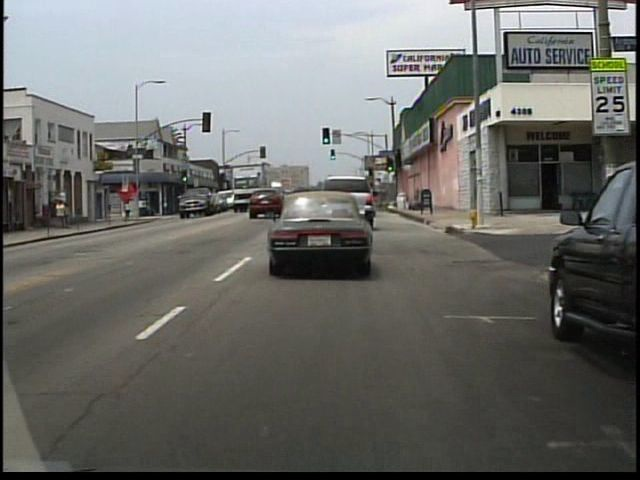person: (56, 197, 67, 227), (68, 202, 77, 229), (125, 197, 135, 220)
